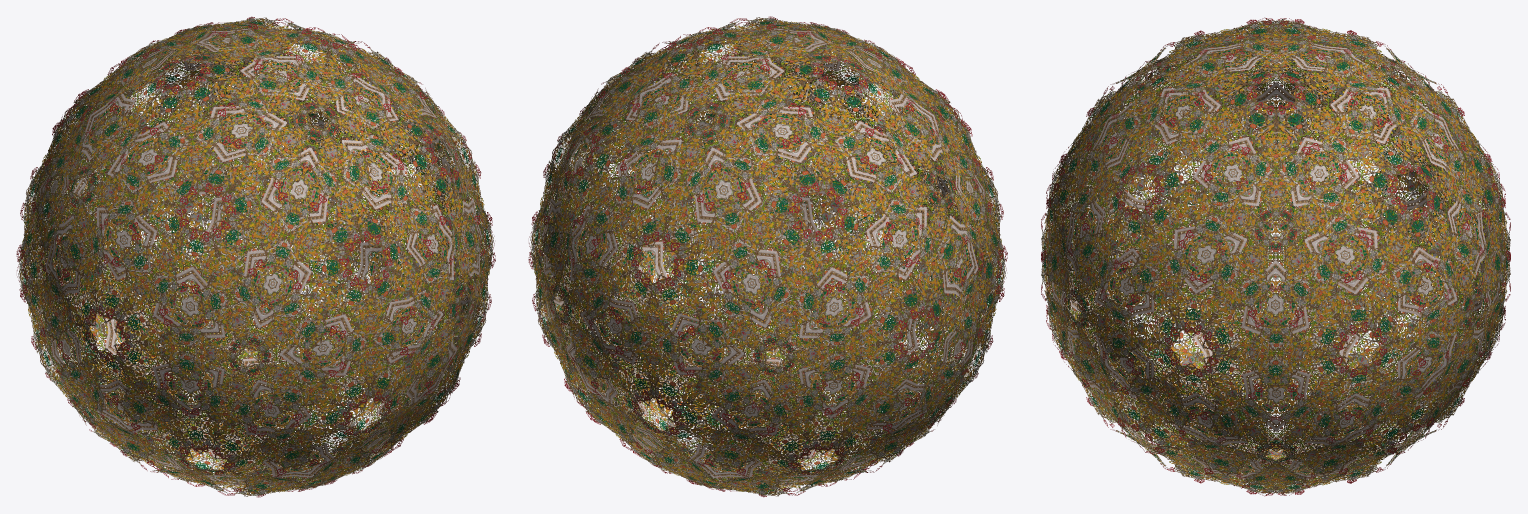
Rendered from SmallHexagonalHexecontahedron7.gltf.
The picture shows the model from 3 angles, left to right: view 1: azimuth 30°, elevation 25°; view 2: azimuth 150°, elevation 25°; view 3: azimuth 270°, elevation 25°; orthographic projection.
Visible parts, largest first — view 1: SmallHexagonalHexecontahedron; view 2: SmallHexagonalHexecontahedron; view 3: SmallHexagonalHexecontahedron.
Part boxes in pixels (<box>): SmallHexagonalHexecontahedron: <box>16,16,495,497</box>; SmallHexagonalHexecontahedron: <box>528,16,1007,497</box>; SmallHexagonalHexecontahedron: <box>1041,17,1510,496</box>.
Size of the model in its own units: 2.73 by 2.73 by 2.73.
1 material, 1 textured.
